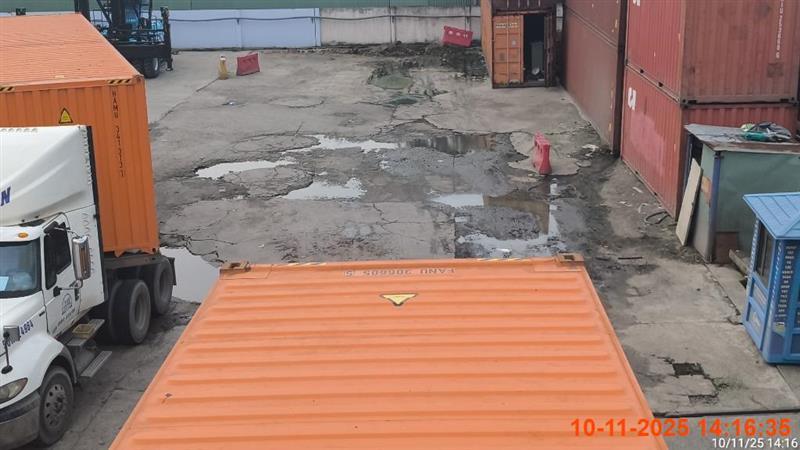bent: (0, 124, 177, 444), (531, 129, 552, 175)
